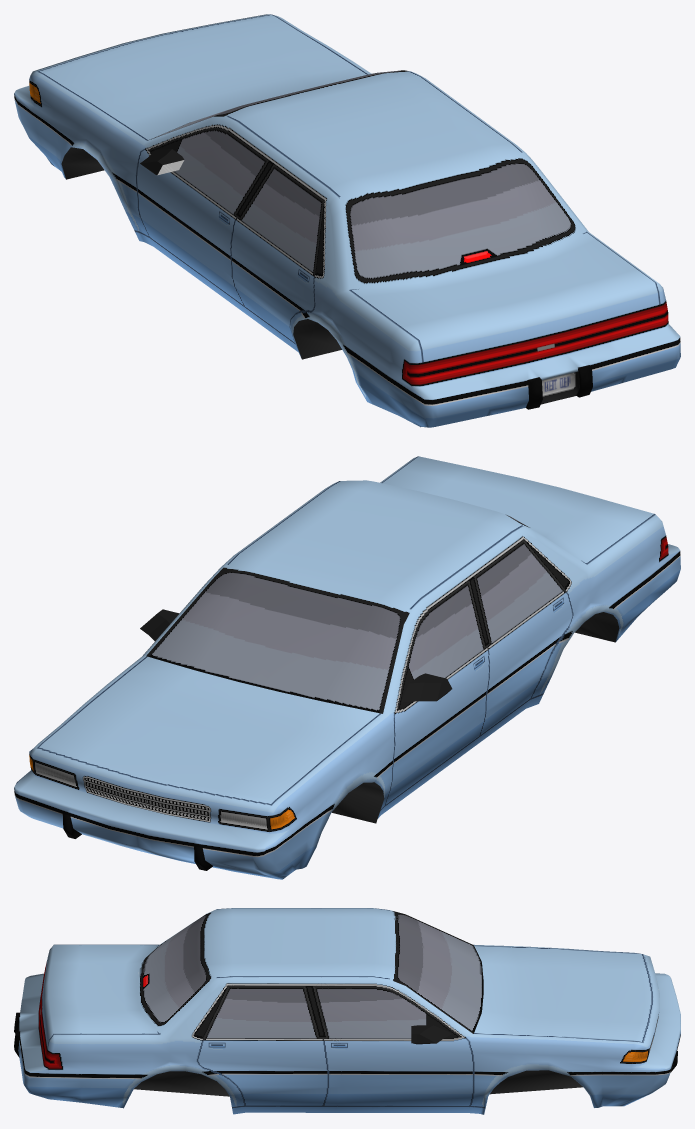
The model's file is 90century.fbx.
The picture shows the model from 3 angles, top to bottom: view 1: azimuth 30°, elevation 25°; view 2: azimuth 150°, elevation 25°; view 3: azimuth 270°, elevation 25°; orthographic projection. The views are drawn at different scales.
Visible parts, largest first — view 1: 90century; view 2: 90century; view 3: 90century.
Boxes of the visible parts, box(x1,y1,x2,y2) form: 90century: box(14, 14, 680, 427); 90century: box(14, 456, 680, 879); 90century: box(14, 908, 680, 1114).
Size of the model in its own units: 2.03 by 1.1 by 5.12.
